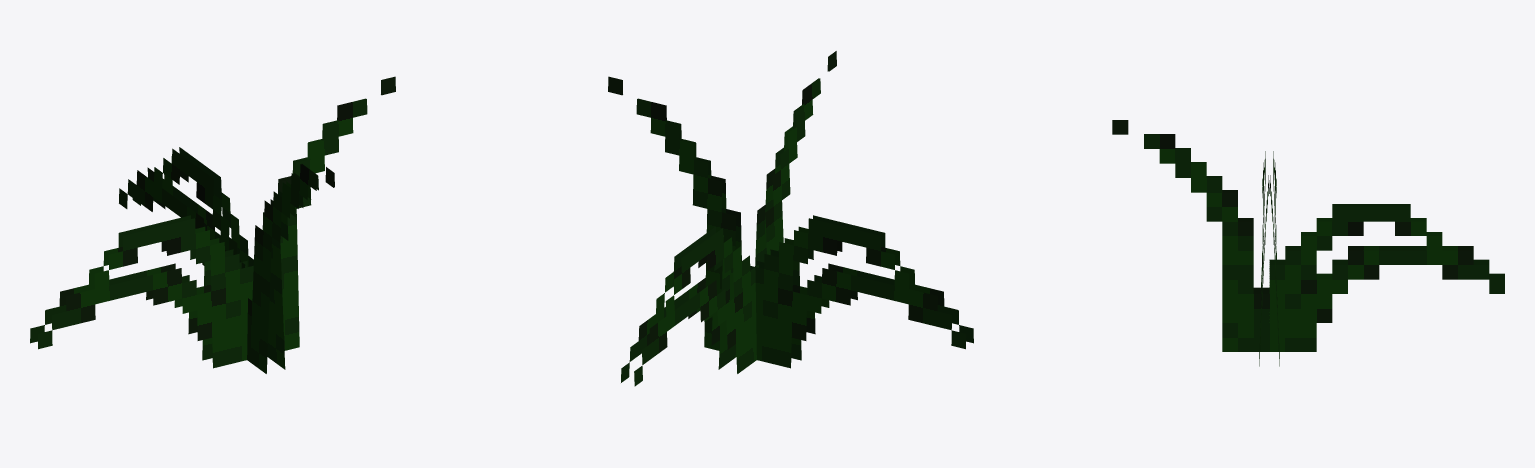
File: grass02_summer.glb
3 views of the same model, side by side, from view 1: azimuth 30°, elevation 25°; view 2: azimuth 150°, elevation 25°; view 3: azimuth 270°, elevation 25° (orthographic). The views are drawn at different scales.
Visible parts, largest first — view 1: grass02; view 2: grass02; view 3: grass02.
Boxes of the visible parts, bbox=[...] form: grass02: bbox=[30, 76, 395, 373]; grass02: bbox=[608, 51, 973, 386]; grass02: bbox=[1112, 120, 1504, 366].
Size of the model in its own units: 0.4 by 0.2 by 0.4.
1 material, 1 textured.
